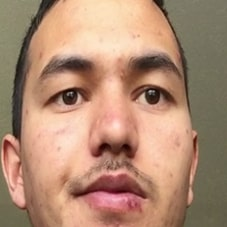awake: (38, 38, 185, 227)
